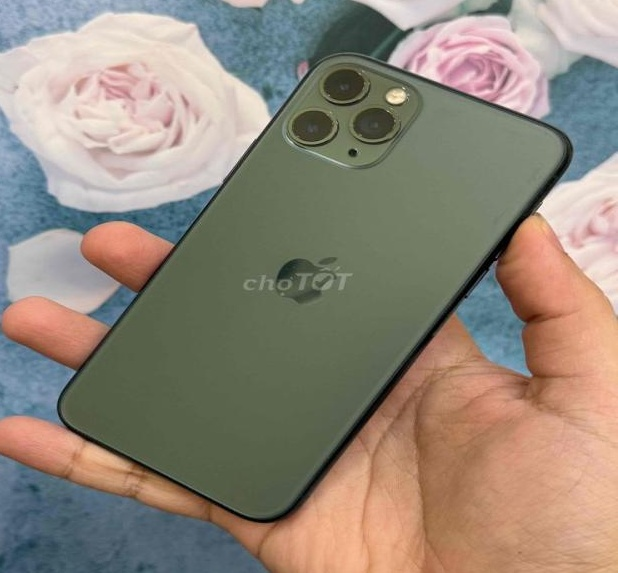scratch: (289, 63, 410, 149)
